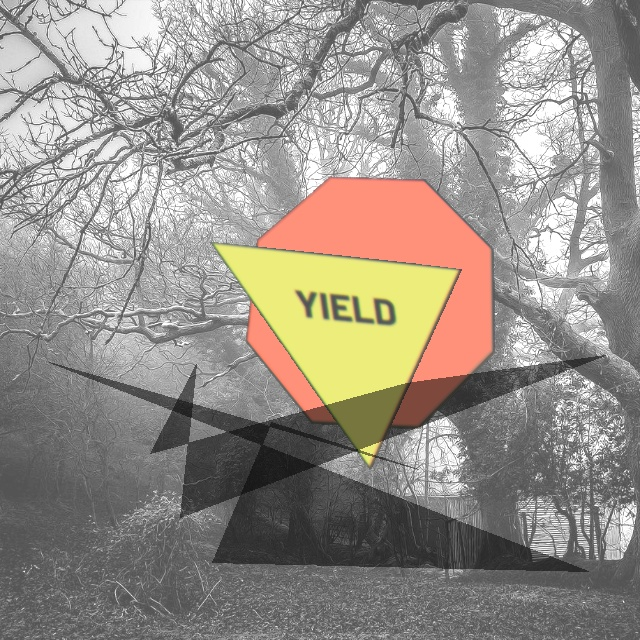STOP: (245, 176, 495, 429)
YIELD: (209, 241, 462, 470)
